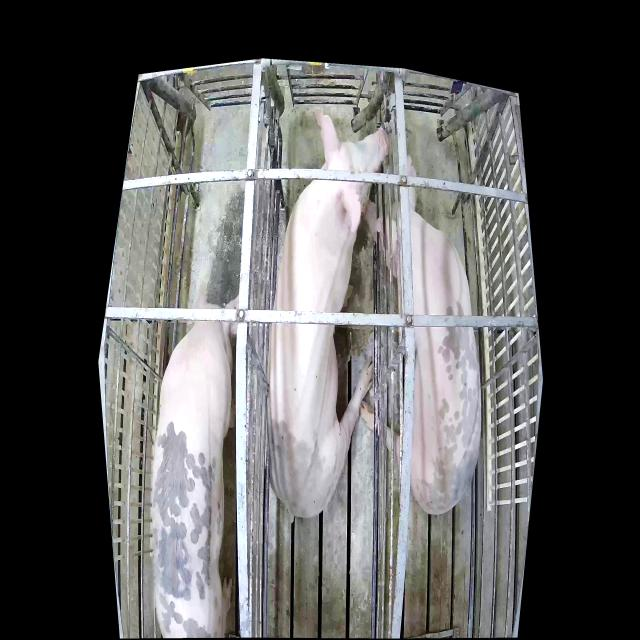pig: (269, 108, 392, 519), (360, 154, 482, 519), (150, 287, 239, 637)
